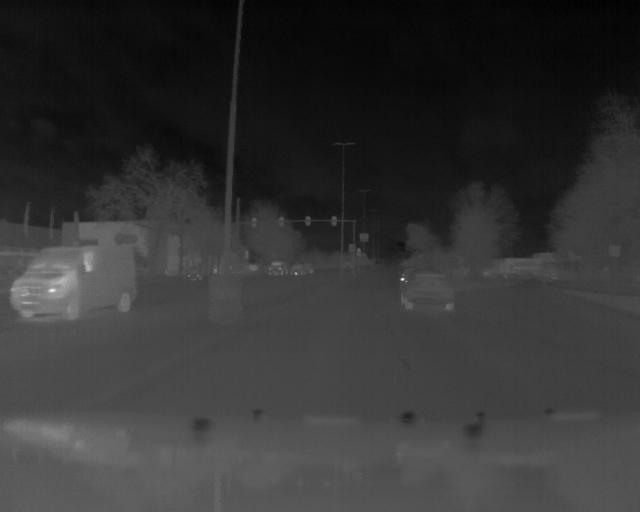car: (7, 243, 140, 317), (396, 267, 461, 315), (267, 257, 287, 276)
